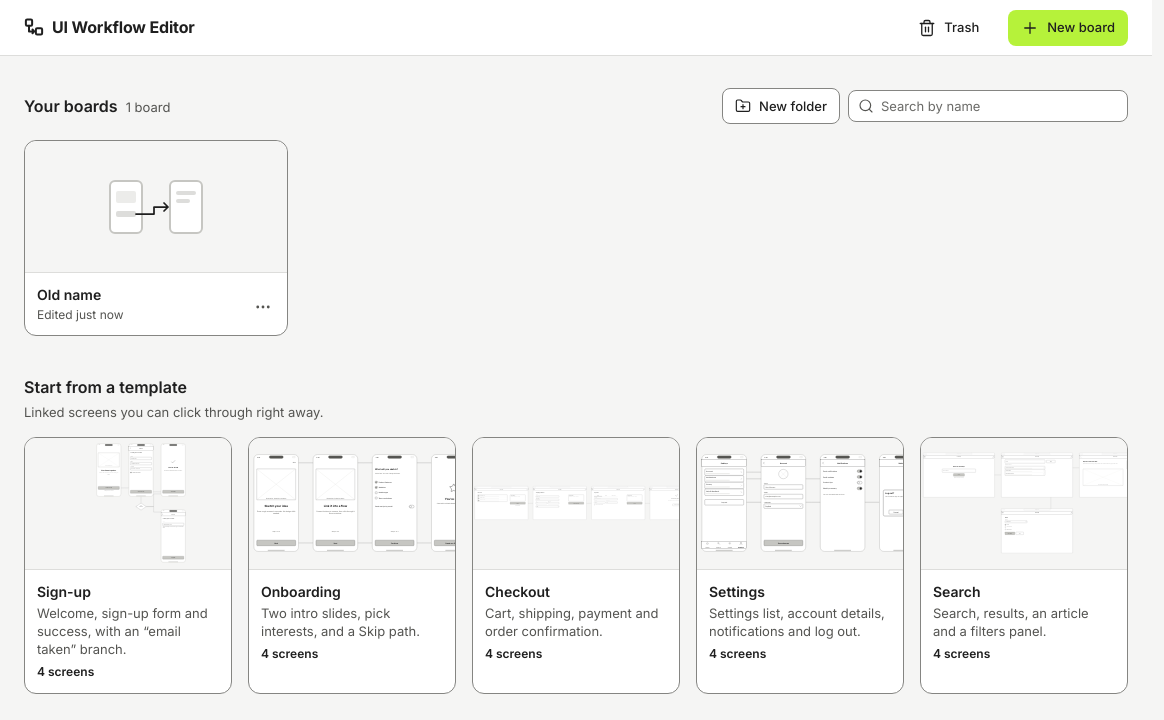
Scenario: DashboardPage › renames inline with F2 + Enter, and Escape cancels
The width and height of the screenshot is (1164, 720).
Press F2 in the link "Old name Edited just now", box [25,141,287,335]
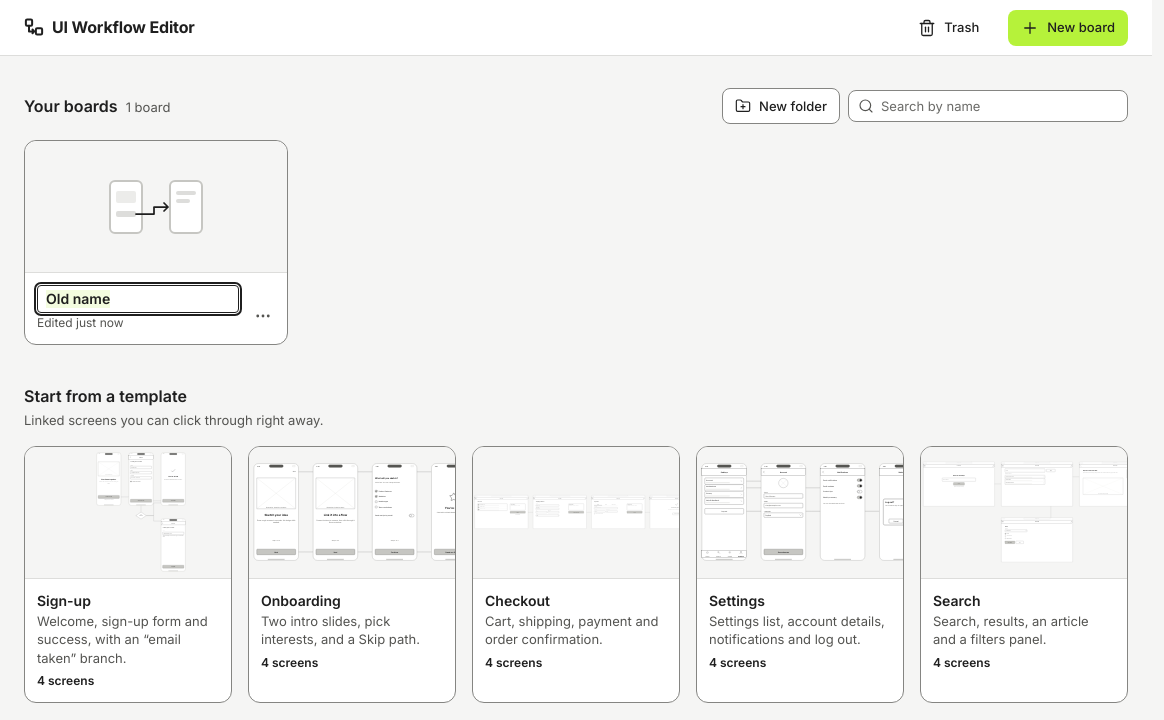
Replace the text in the field named "Board name" with "New name": (138,299) [37,285,239,313]
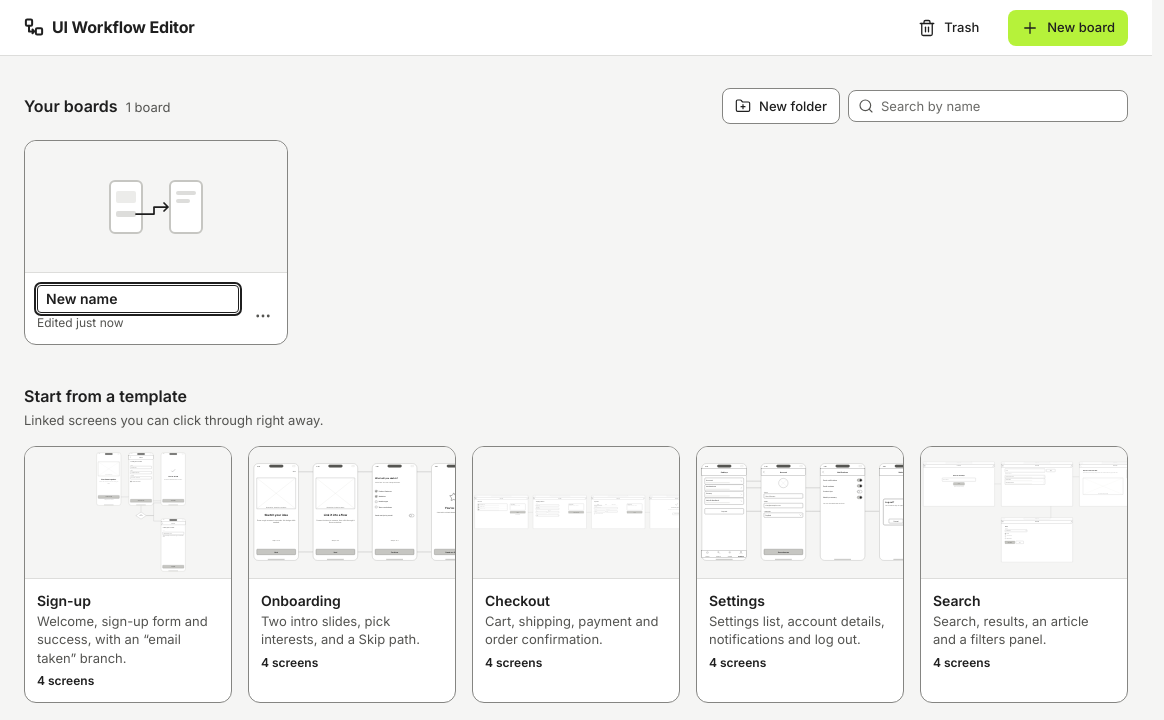
Press Enter in the field named "Board name", box [37,285,239,313]
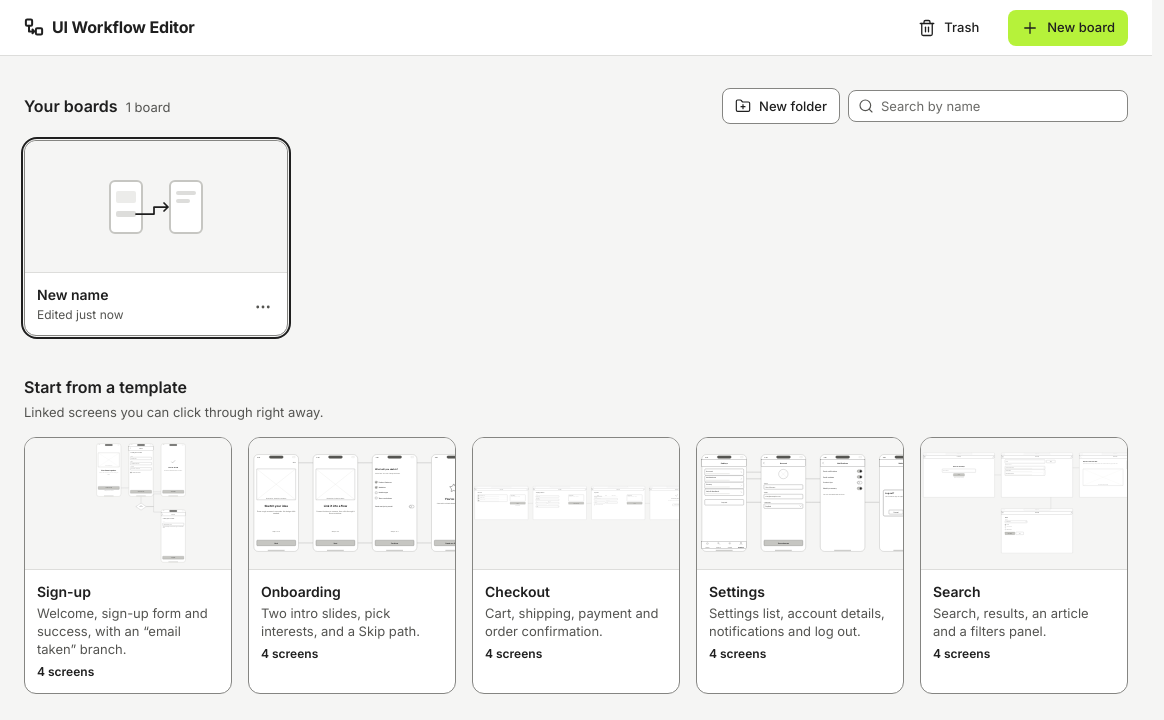
Check: the text "New name" is shown, box [37,286,108,303]
Press F2 in the link "New name Edited just now", box [25,141,287,335]
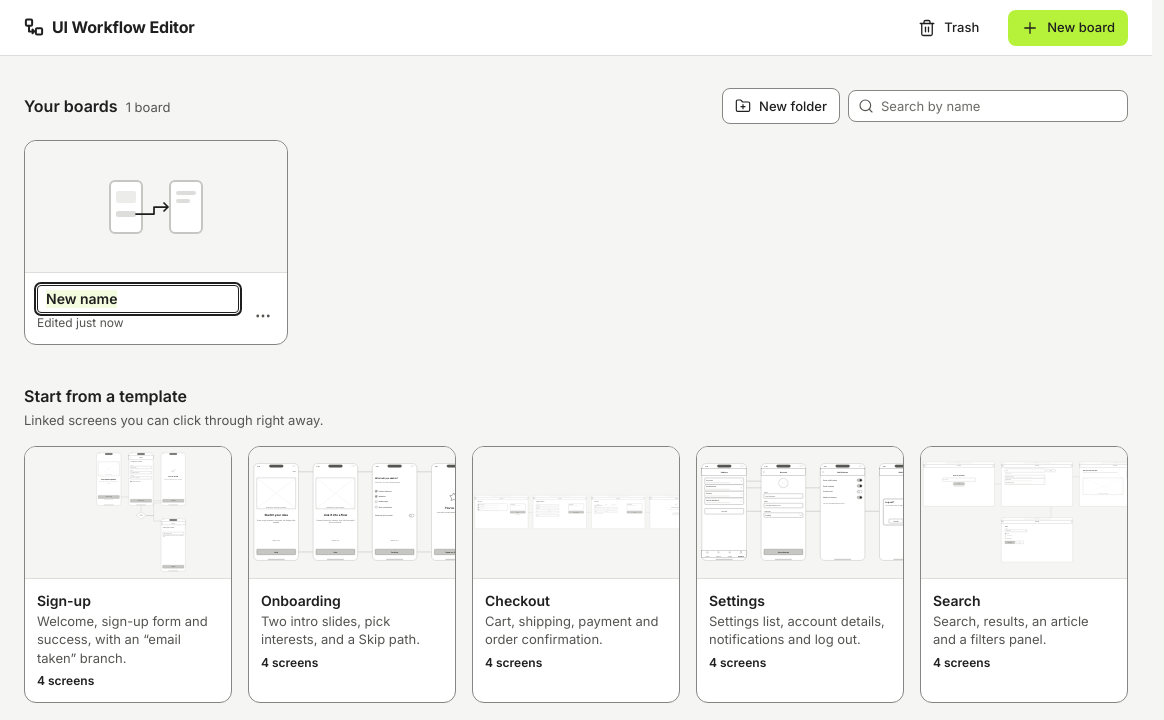
Replace the text in the field named "Board name" with "Discard me": (138,299) [37,285,239,313]
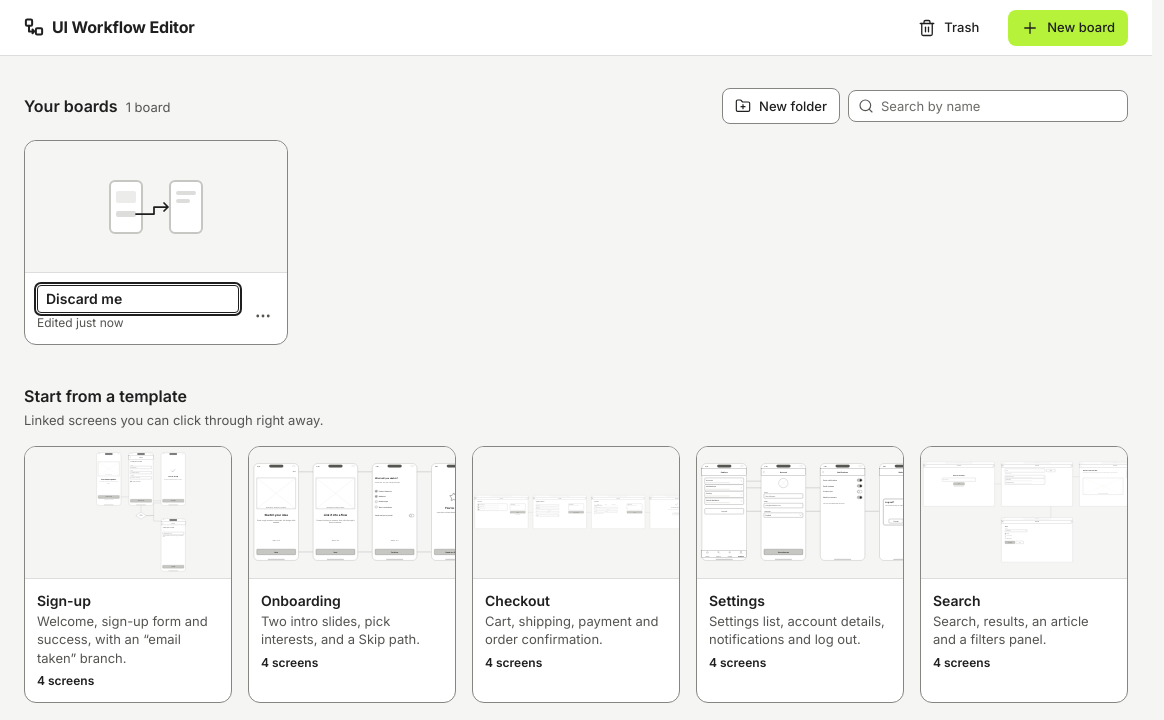
Press Escape in the field named "Board name", box [37,285,239,313]
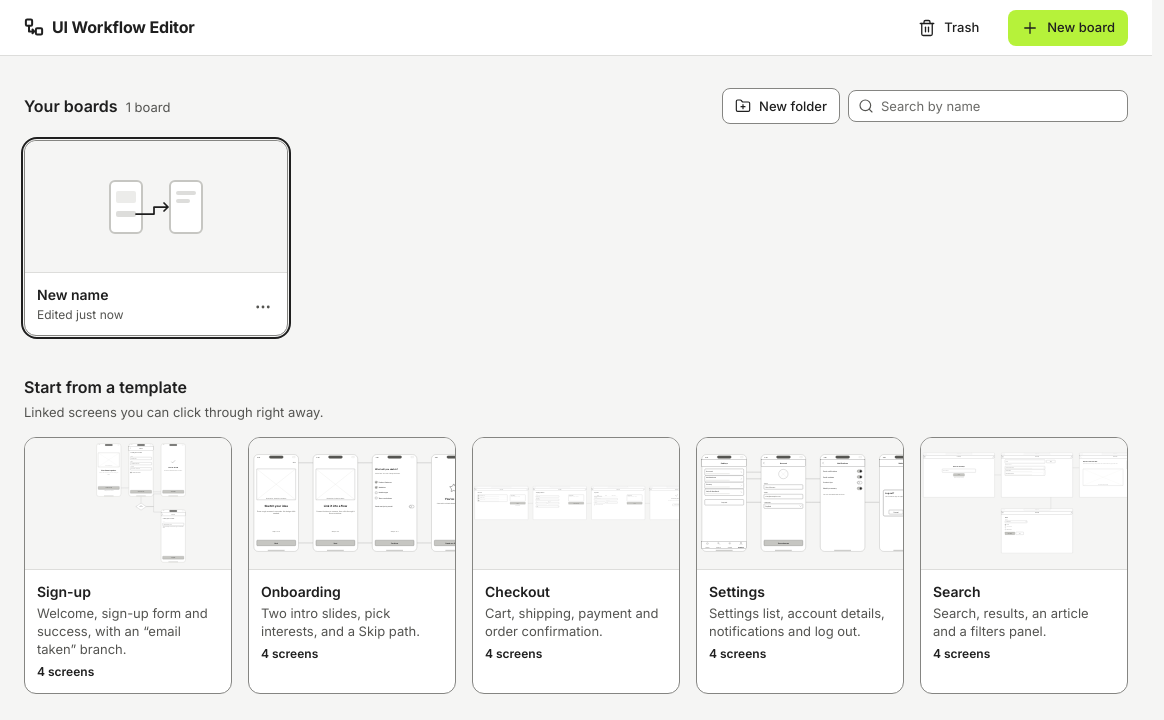
Check: the text "New name" is shown, box [37,286,108,303]
